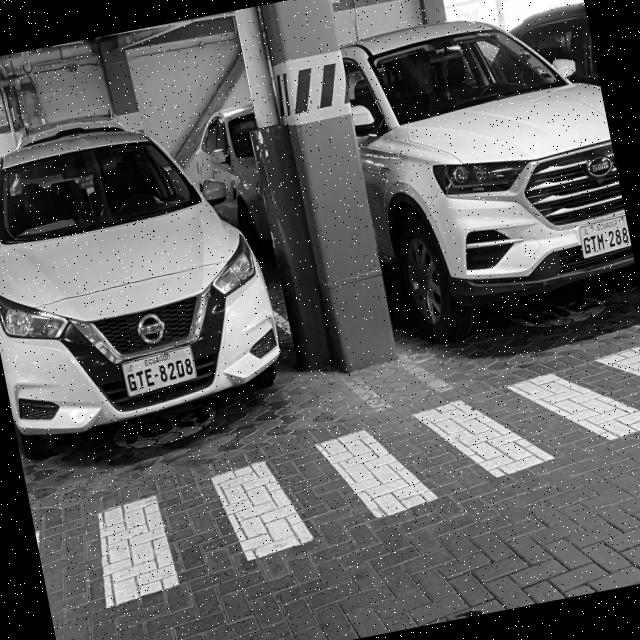Placa: (122, 346, 196, 396), (579, 215, 630, 258)
